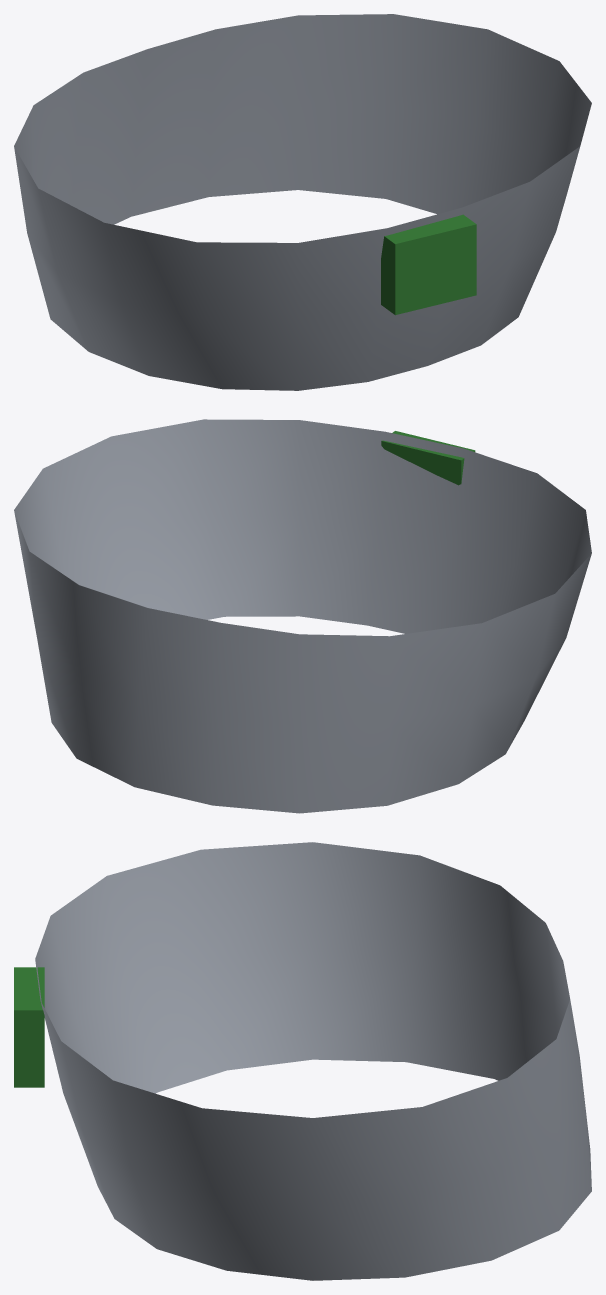
File: golf_outfit_belt.glb
The picture shows the model from 3 angles, top to bottom: view 1: azimuth 30°, elevation 25°; view 2: azimuth 150°, elevation 25°; view 3: azimuth 270°, elevation 25°; orthographic projection. The views are drawn at different scales.
Visible parts, largest first — view 1: golf_outfit_belt; view 2: golf_outfit_belt; view 3: golf_outfit_belt.
Boxes of the visible parts, bbox=[...] form: golf_outfit_belt: bbox=[14, 14, 591, 390]; golf_outfit_belt: bbox=[14, 419, 591, 813]; golf_outfit_belt: bbox=[14, 842, 591, 1280].
Size of the model in its own units: 0.3841 by 0.1238 by 0.34.
